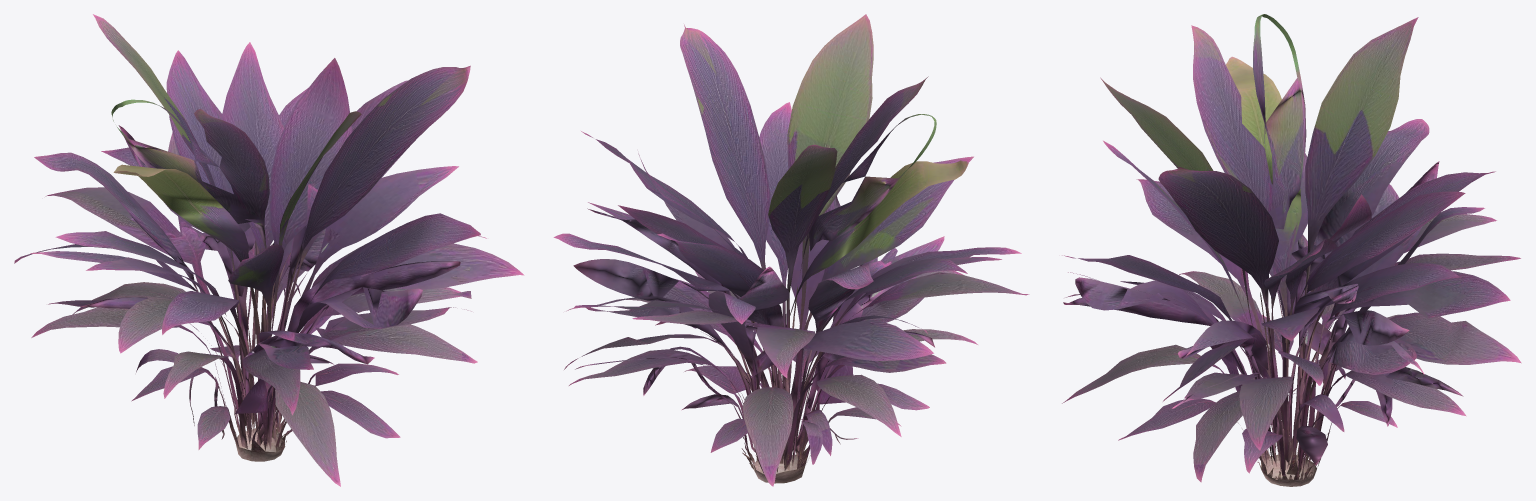
File: selected.fbx
The picture shows the model from 3 angles, left to right: view 1: azimuth 30°, elevation 25°; view 2: azimuth 150°, elevation 25°; view 3: azimuth 270°, elevation 25°; orthographic projection. The views are drawn at different scales.
Parts seen in each view (by area): view 1: tripo_node_b01468be-ec61-4f05-a0f6-aaeee4301584; view 2: tripo_node_b01468be-ec61-4f05-a0f6-aaeee4301584; view 3: tripo_node_b01468be-ec61-4f05-a0f6-aaeee4301584.
Boxes of the visible parts, x1,y1,x2,y2 form: tripo_node_b01468be-ec61-4f05-a0f6-aaeee4301584: [14, 14, 524, 486]; tripo_node_b01468be-ec61-4f05-a0f6-aaeee4301584: [553, 14, 1029, 486]; tripo_node_b01468be-ec61-4f05-a0f6-aaeee4301584: [1062, 14, 1521, 486].
Size of the model in its own units: 0.998 by 0.9785 by 0.998.
Materials: 1 (1 with a texture image).
